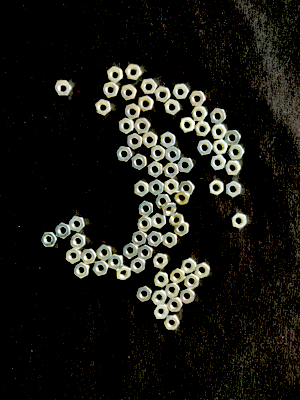nut: (54, 80, 72, 97), (102, 82, 120, 99), (120, 84, 138, 101), (107, 67, 124, 84), (134, 118, 151, 135), (95, 99, 111, 117), (189, 91, 207, 107), (125, 64, 142, 80), (140, 79, 157, 95), (154, 87, 171, 103), (125, 103, 141, 120), (164, 99, 180, 116), (172, 84, 189, 100), (179, 117, 196, 133), (210, 124, 227, 140), (197, 140, 214, 156), (225, 160, 242, 176), (127, 133, 143, 150), (116, 146, 133, 162), (150, 145, 166, 162), (163, 163, 180, 179), (55, 223, 72, 239), (69, 216, 86, 232), (70, 233, 86, 250), (74, 262, 90, 279), (96, 245, 113, 261), (108, 254, 124, 271), (162, 232, 178, 249), (136, 286, 152, 303), (227, 145, 245, 160), (138, 96, 154, 112), (210, 108, 226, 124), (225, 130, 241, 146), (213, 140, 229, 156), (226, 182, 242, 198), (119, 118, 135, 134), (138, 201, 154, 217), (151, 213, 167, 229), (131, 231, 147, 247), (81, 249, 97, 265), (152, 254, 168, 270), (153, 272, 169, 288), (195, 263, 211, 279), (194, 122, 211, 137), (210, 156, 227, 171), (143, 132, 158, 149), (161, 132, 176, 149), (132, 154, 147, 171), (41, 233, 58, 248), (148, 231, 163, 248), (131, 257, 146, 274), (185, 273, 200, 290), (153, 305, 170, 320), (209, 180, 224, 196), (231, 214, 247, 229), (166, 147, 181, 163), (148, 162, 163, 178), (178, 158, 194, 173), (134, 181, 149, 197), (149, 180, 164, 196), (164, 179, 179, 195), (170, 213, 185, 229), (137, 216, 152, 232), (66, 248, 81, 264), (93, 261, 109, 276), (116, 265, 131, 281), (123, 243, 138, 259), (138, 245, 153, 261), (181, 259, 197, 274), (170, 268, 185, 284), (180, 289, 195, 305), (165, 283, 180, 299), (152, 290, 168, 305), (167, 298, 183, 313), (164, 316, 180, 331), (191, 107, 208, 121), (175, 191, 190, 206), (174, 222, 189, 237), (179, 181, 195, 195), (155, 195, 171, 209), (161, 202, 176, 216)
